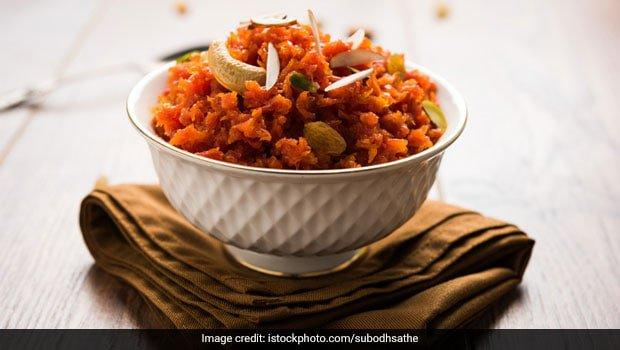Gajar ka halwa: (130, 9, 475, 278)
